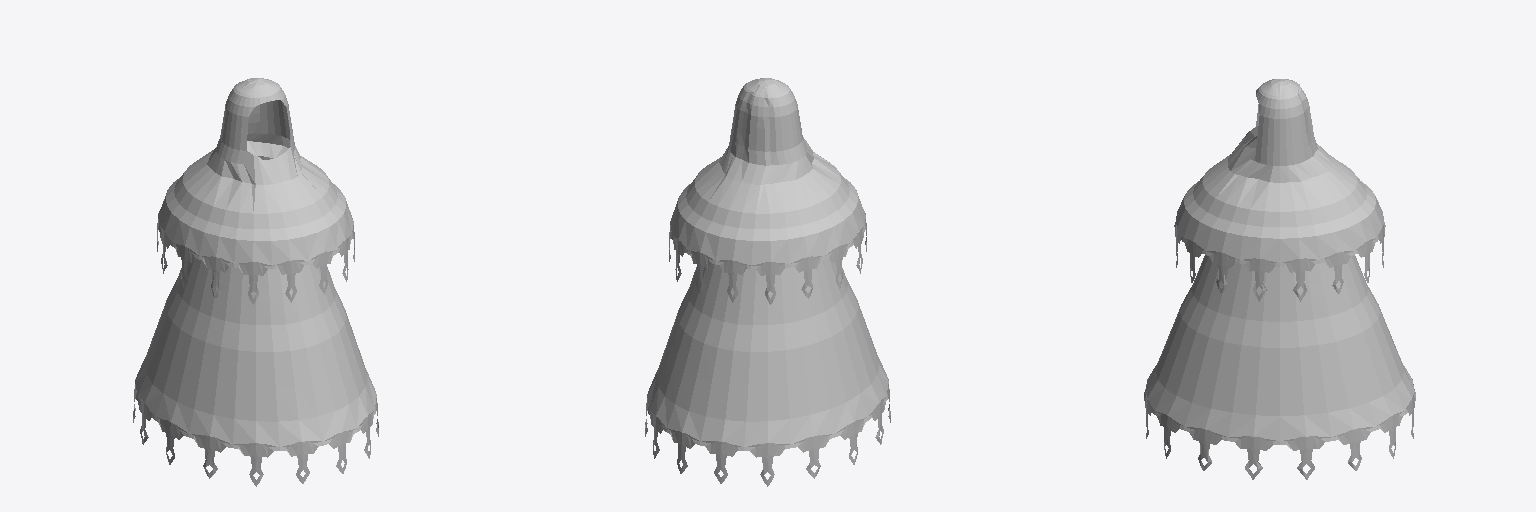
File: mother_cloak_only.obj
3 renders of one model, left to right at view 1: azimuth 30°, elevation 25°; view 2: azimuth 150°, elevation 25°; view 3: azimuth 270°, elevation 25°, orthographic.
Visible parts, largest first — view 1: Cylinder.001_Cylinder.002; view 2: Cylinder.001_Cylinder.002; view 3: Cylinder.001_Cylinder.002.
Part boxes in pixels (x1,y1,x2,y2): Cylinder.001_Cylinder.002: (133,78,378,486); Cylinder.001_Cylinder.002: (645,78,890,486); Cylinder.001_Cylinder.002: (1144,79,1415,479).
Bounding box in the file's own units: 3.25 × 5.39 × 3.79.